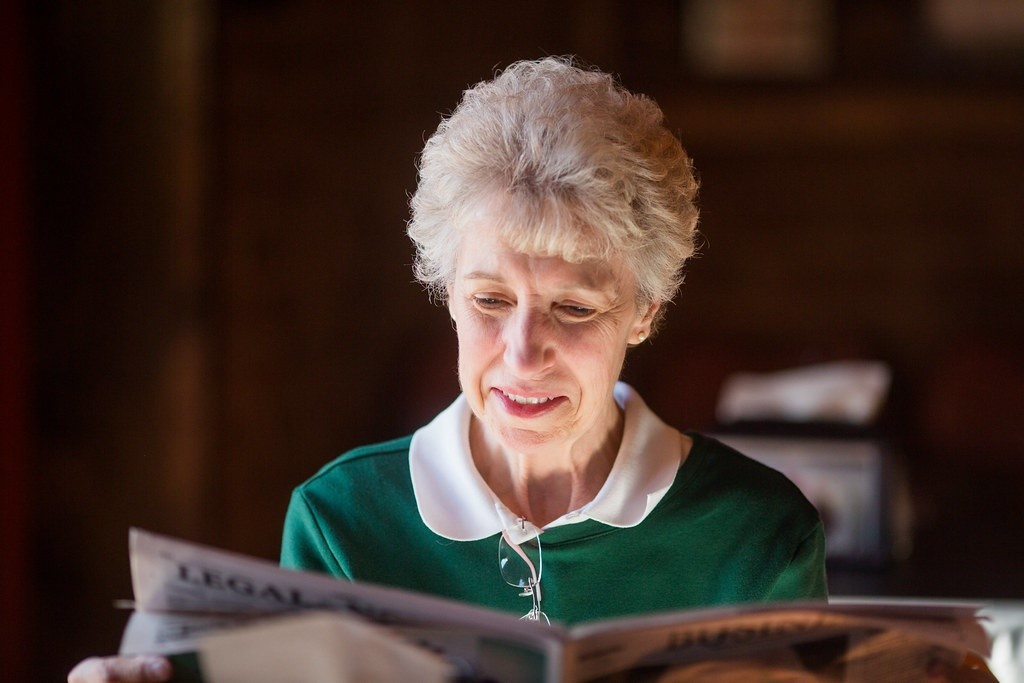face_no_mask: (414, 61, 690, 446)
